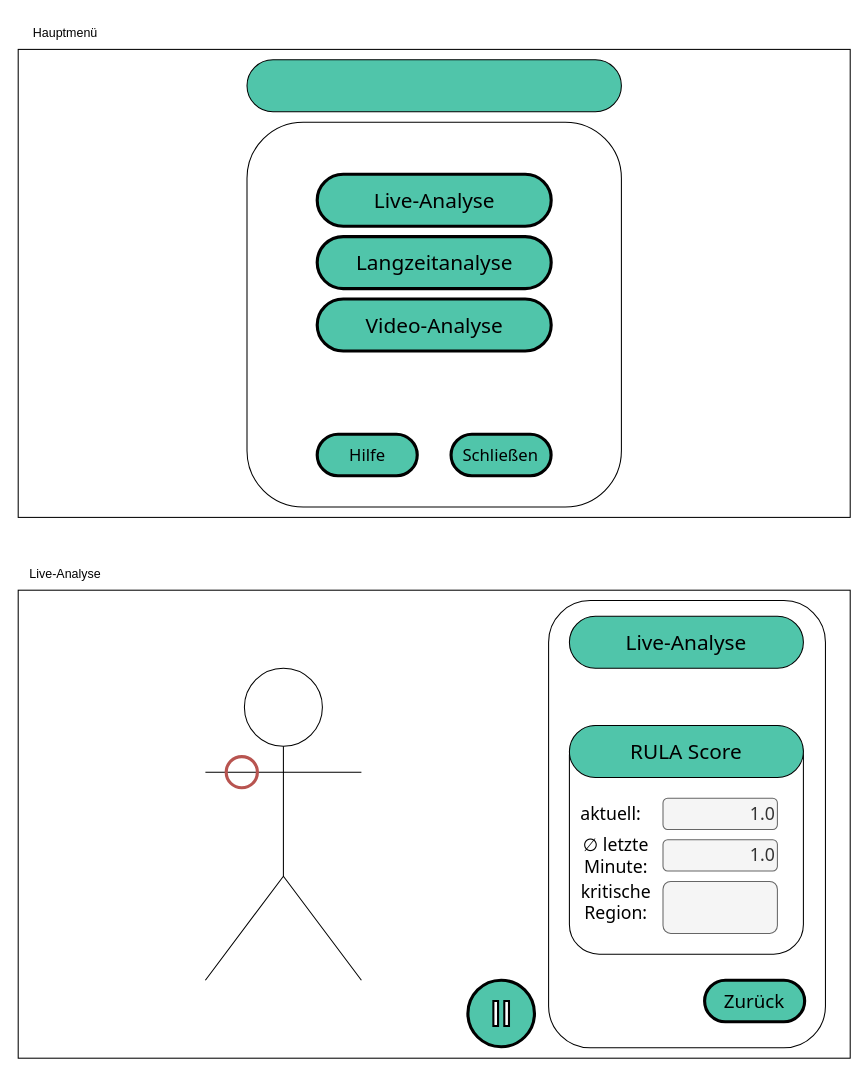
This 868x1076 diagram has some shape labels left out. Here are the shapes that lost their labels. From the top down, the centre of each, then its label:
At pixel 433 85: "Programmtitel".
At pixel 719 906: "Ellenbogen rechts".
